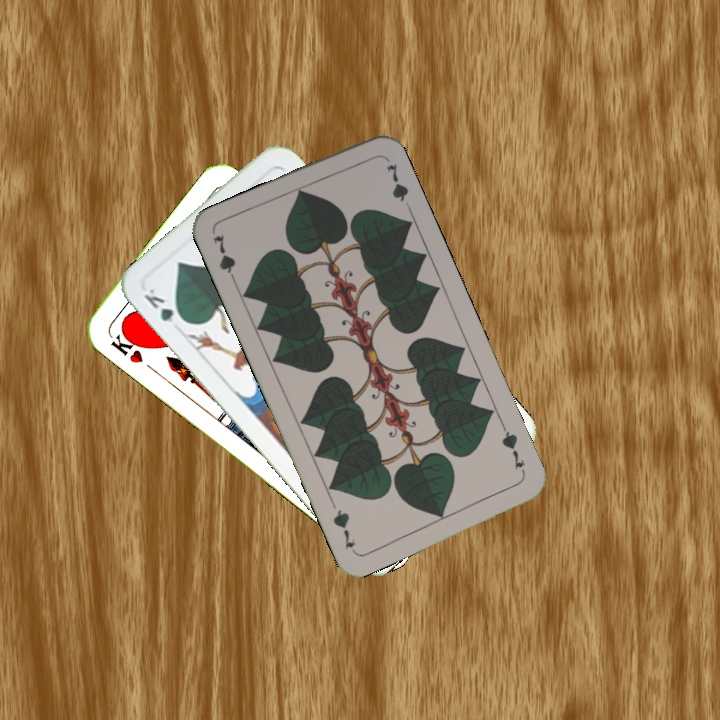G7: (209, 230, 240, 288), (497, 421, 528, 478)
GK: (139, 283, 190, 327)
HK: (106, 325, 148, 366)
